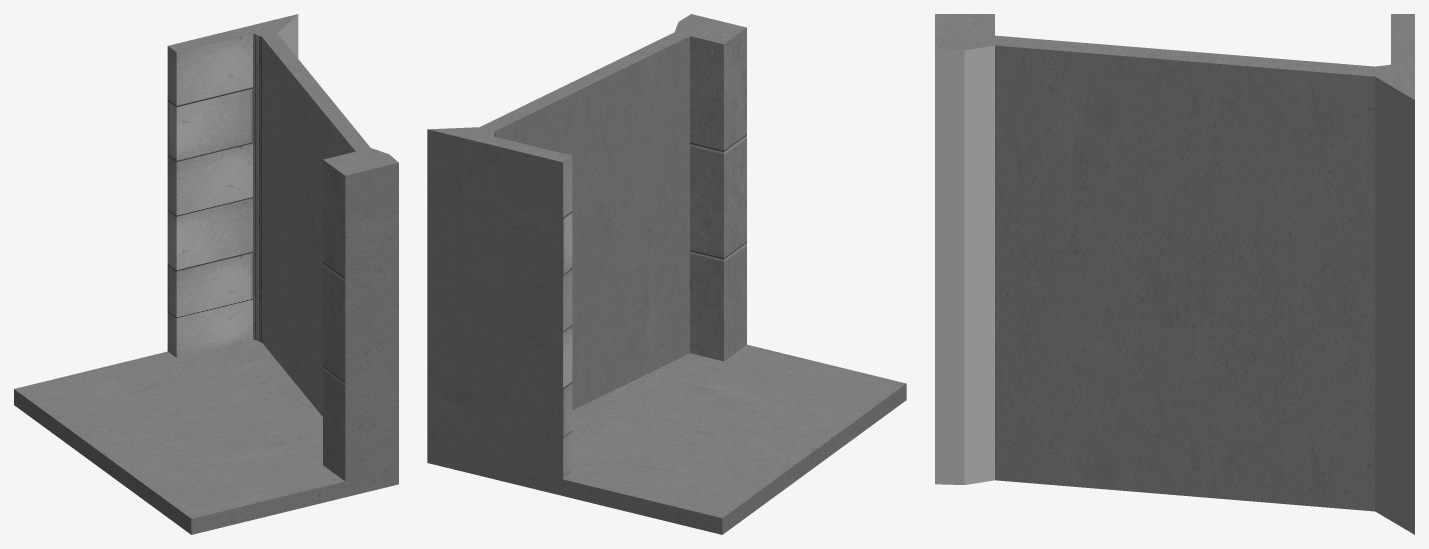
Rendered from Side_room_corner_middle_L.fbx.
3 renders of one model, left to right at view 1: azimuth 30°, elevation 25°; view 2: azimuth 150°, elevation 25°; view 3: azimuth 270°, elevation 25°, orthographic. The views are drawn at different scales.
Parts seen in each view (by area): view 1: Side_room_corner_middle_L; view 2: Side_room_corner_middle_L; view 3: Side_room_corner_middle_L.
Part boxes in pixels (<box>): Side_room_corner_middle_L: <box>14,14,398,534</box>; Side_room_corner_middle_L: <box>427,14,906,534</box>; Side_room_corner_middle_L: <box>935,14,1414,534</box>.
Size of the model in its own units: 3.7 by 4 by 4.
